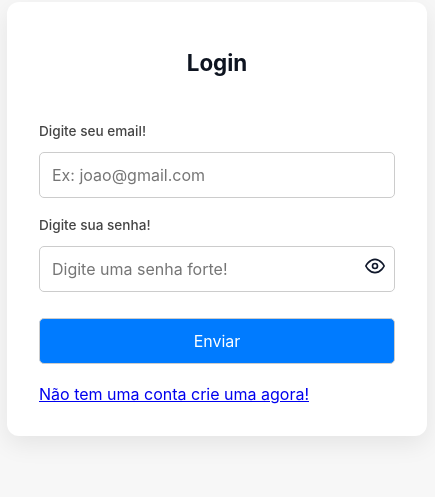
it: should handle service response › should display the success message when the service returns status 201
This screenshot has width=435, height=497.
Type "lucas@gmail.com" into the field with placeholder "Ex: joao@gmail.com" at (217, 175), box x1=39 y1=152 x2=395 y2=198
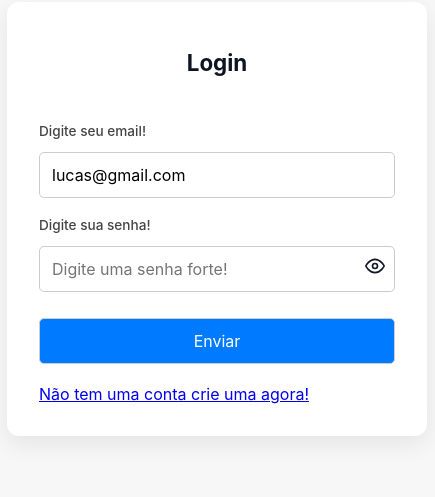
Type "123456" into the password field with placeholder "Digite uma senha forte!" at (217, 269), box x1=39 y1=246 x2=395 y2=292
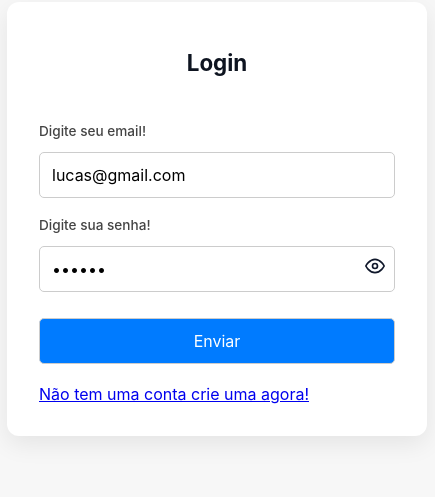
Click the button "Enviar" at (217, 341), box x1=39 y1=318 x2=395 y2=364
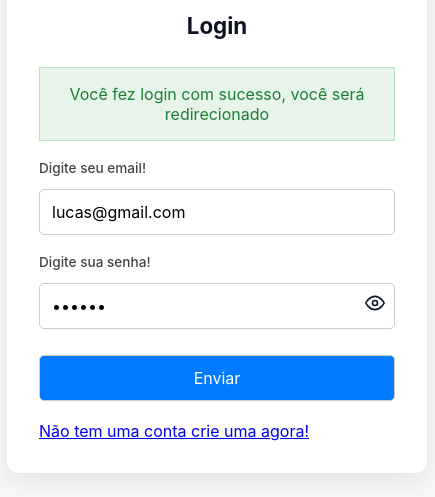
Result: the text "Você fez login com sucesso, você será redirecionado" is shown at x1=70 y1=84 x2=364 y2=124
